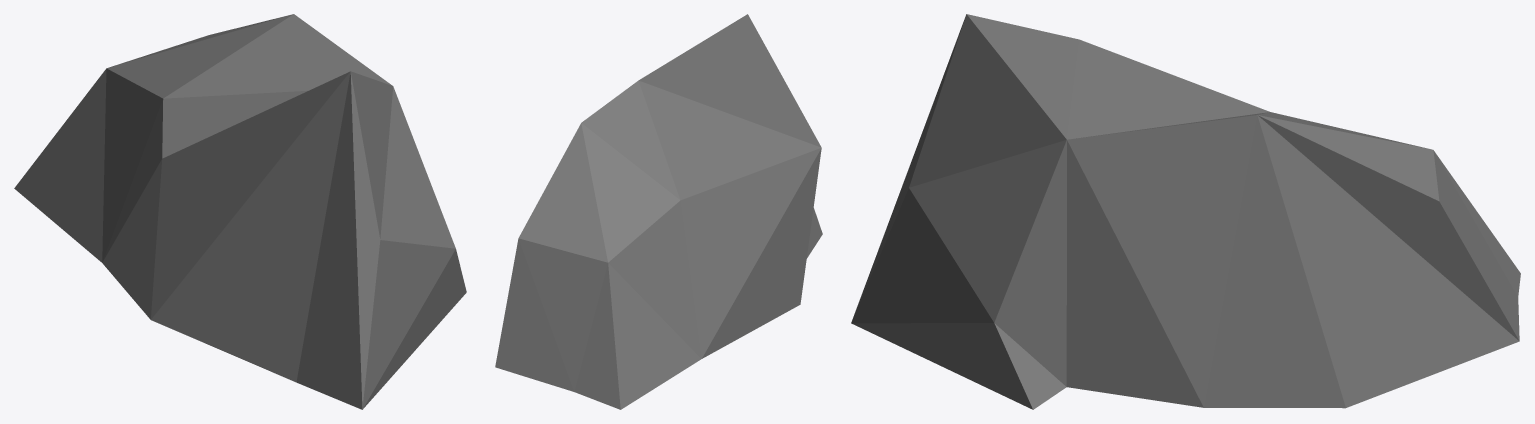
Rendered from rock3.fbx.
3 renders of one model, left to right at view 1: azimuth 30°, elevation 25°; view 2: azimuth 150°, elevation 25°; view 3: azimuth 270°, elevation 25°, orthographic. The views are drawn at different scales.
Visible parts, largest first — view 1: Cylinder026; view 2: Cylinder026; view 3: Cylinder026.
Boxes of the visible parts, x1=… form: Cylinder026: x1=14, y1=14, x2=466, y2=409; Cylinder026: x1=495, y1=14, x2=822, y2=409; Cylinder026: x1=851, y1=14, x2=1520, y2=409.
Size of the model in its own units: 92.56 by 91.25 by 167.
